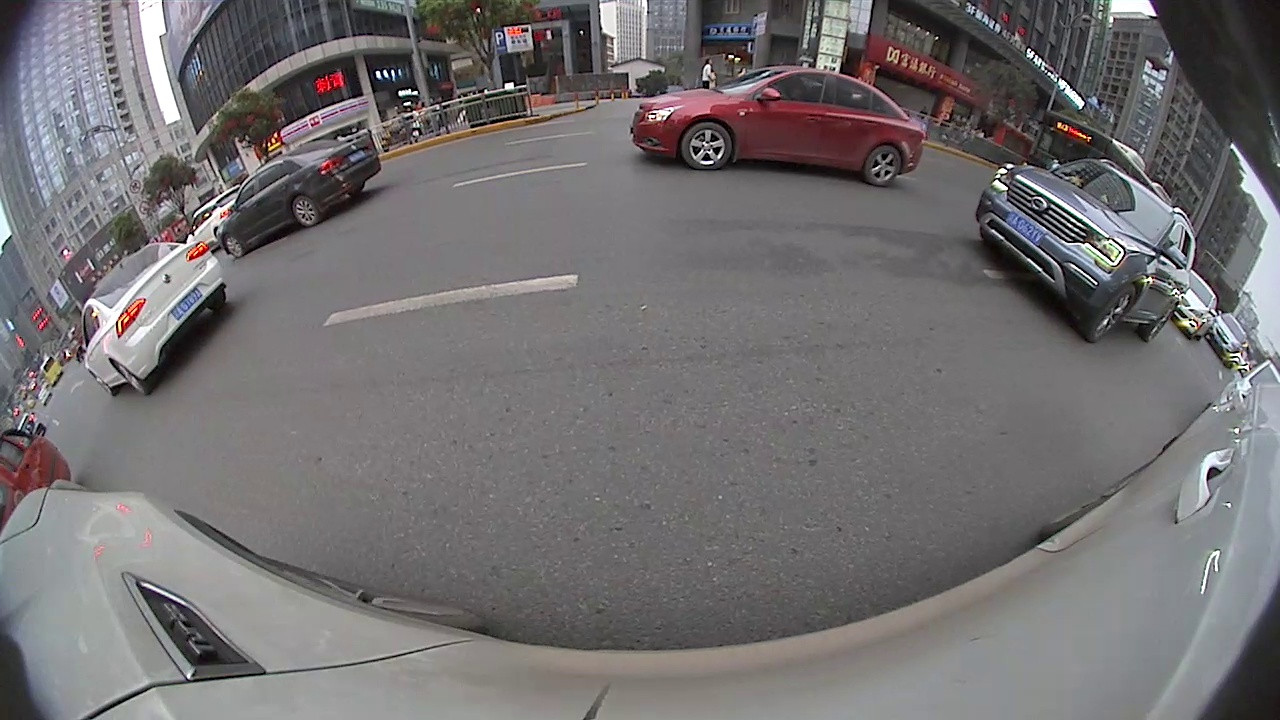car: (852, 96, 1112, 349), (1154, 345, 1252, 475), (728, 60, 831, 128), (581, 50, 653, 101)
person: (355, 3, 448, 223), (298, 78, 318, 136), (529, 50, 546, 106), (563, 52, 579, 104), (332, 75, 350, 119), (239, 115, 257, 151)
rear: (859, 179, 909, 236)
